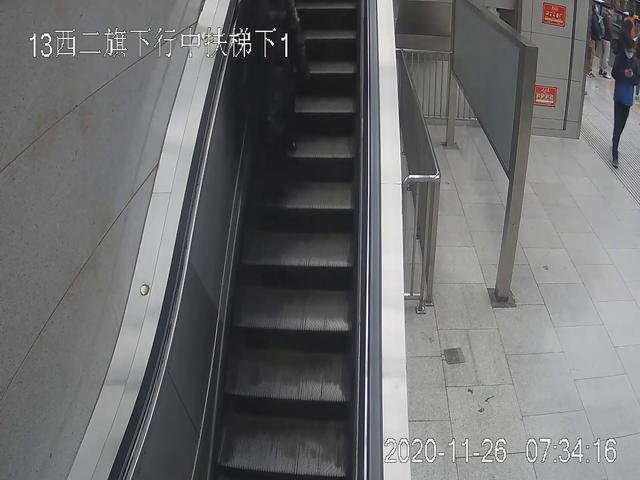person: (609, 39, 639, 169)
